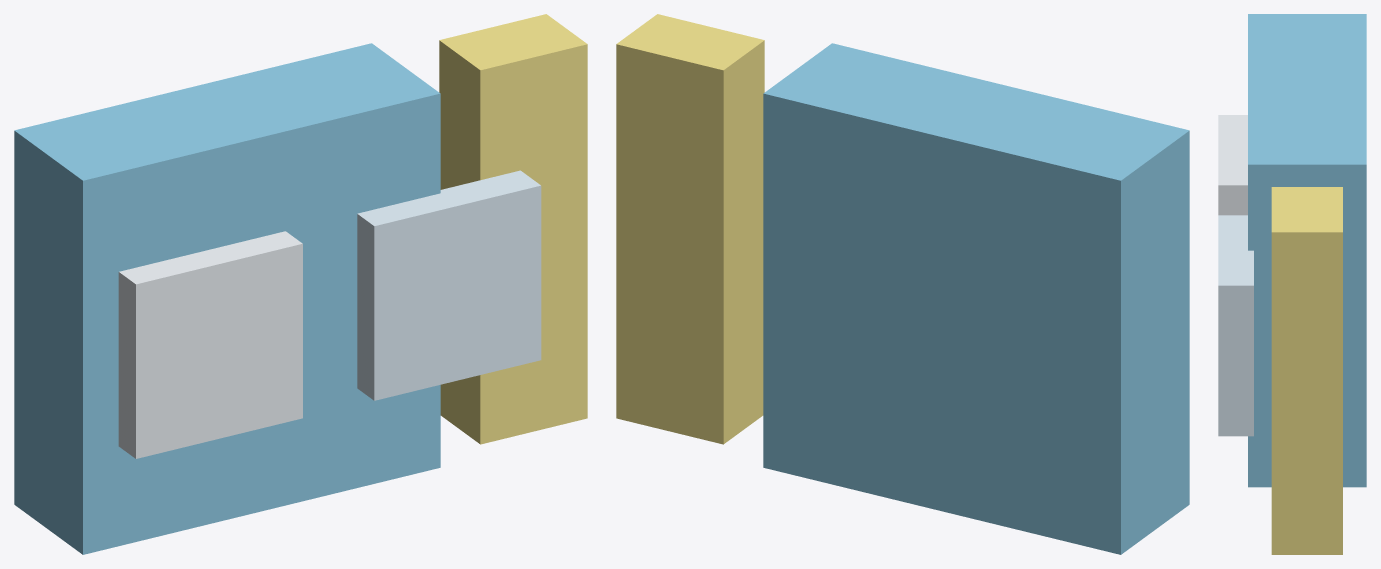
Rendered from linked-list-node.glb.
The picture shows the model from 3 angles, left to right: view 1: azimuth 30°, elevation 25°; view 2: azimuth 150°, elevation 25°; view 3: azimuth 270°, elevation 25°; orthographic projection. The views are drawn at different scales.
Visible parts, largest first — view 1: node_data, node_pointer, node_next_slot, node_value; view 2: node_data, node_pointer; view 3: node_data, node_pointer, node_next_slot, node_value.
Part boxes in pixels (bbox=[...]): node_data: bbox=[14, 43, 440, 554]; node_pointer: bbox=[439, 14, 587, 444]; node_next_slot: bbox=[357, 170, 541, 400]; node_value: bbox=[118, 231, 302, 458]; node_data: bbox=[763, 43, 1189, 554]; node_pointer: bbox=[616, 14, 764, 444]; node_data: bbox=[1248, 14, 1366, 487]; node_pointer: bbox=[1271, 187, 1342, 554]; node_next_slot: bbox=[1218, 215, 1253, 436]; node_value: bbox=[1218, 115, 1247, 215].
Size of the model in its own units: 1.6 by 1.1 by 0.4604.
